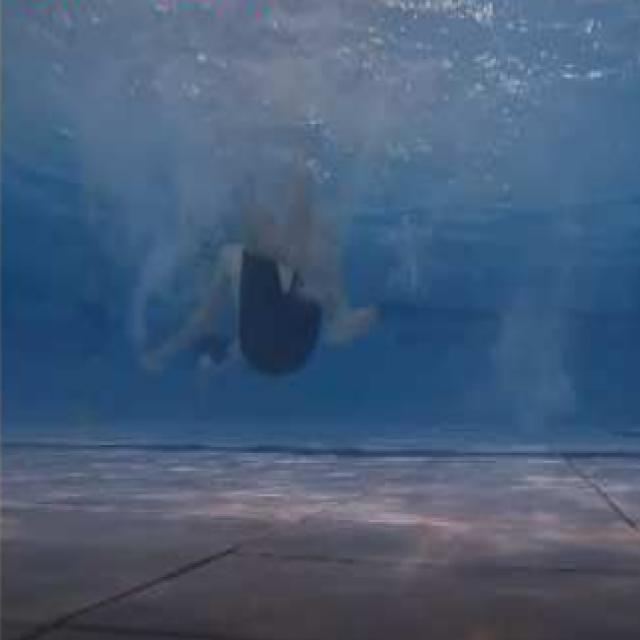Drowning: (153, 221, 388, 366)
